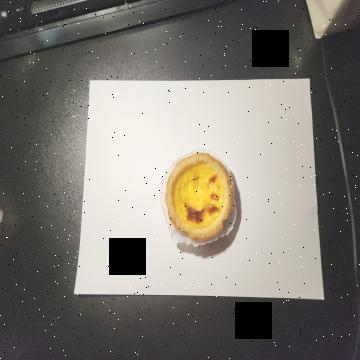EggTart: (165, 150, 235, 242)
